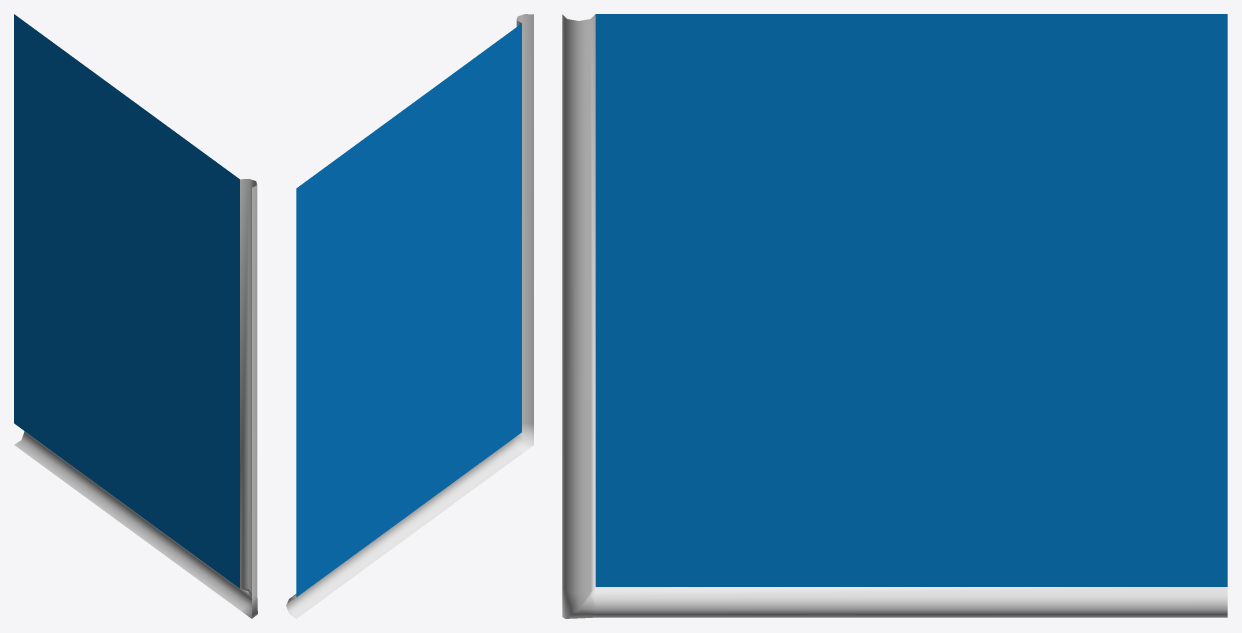
Rendered from Hotel_GlassWallSideCorn.fbx.
3 renders of one model, left to right at view 1: azimuth 30°, elevation 25°; view 2: azimuth 150°, elevation 25°; view 3: azimuth 270°, elevation 25°, orthographic. The views are drawn at different scales.
Parts seen in each view (by area): view 1: Wall_Glass_Verti-Corner; view 2: Wall_Glass_Verti-Corner; view 3: Wall_Glass_Verti-Corner.
Part boxes in pixels (box(x1,y1,x2,y2)): Wall_Glass_Verti-Corner: box(14, 14, 257, 618); Wall_Glass_Verti-Corner: box(286, 14, 533, 618); Wall_Glass_Verti-Corner: box(562, 14, 1227, 618).
Size of the model in its own units: 0.025 by 1 by 1.
